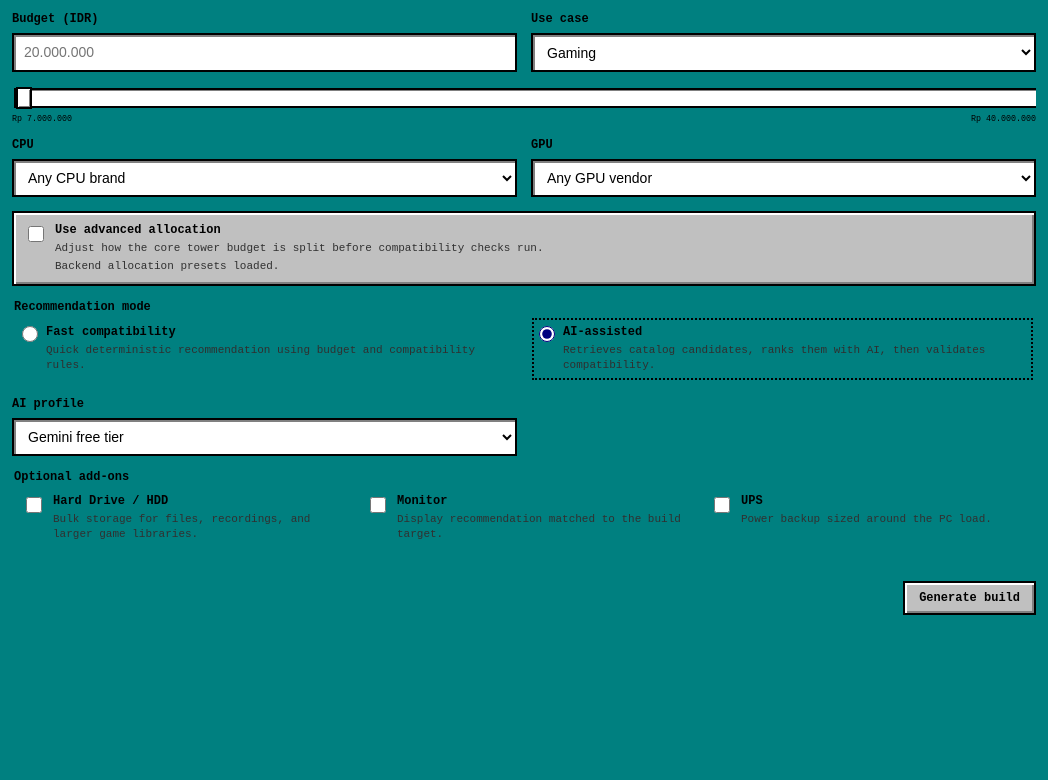
build wizard › hydrates advanced allocation presets from backend metadata when available
Expected: the text "Backend allocation presets loaded." is shown, [55,260,279,272]
Click the checkbox labelled "Use advanced allocation" at [36, 234], box [28,226,44,242]
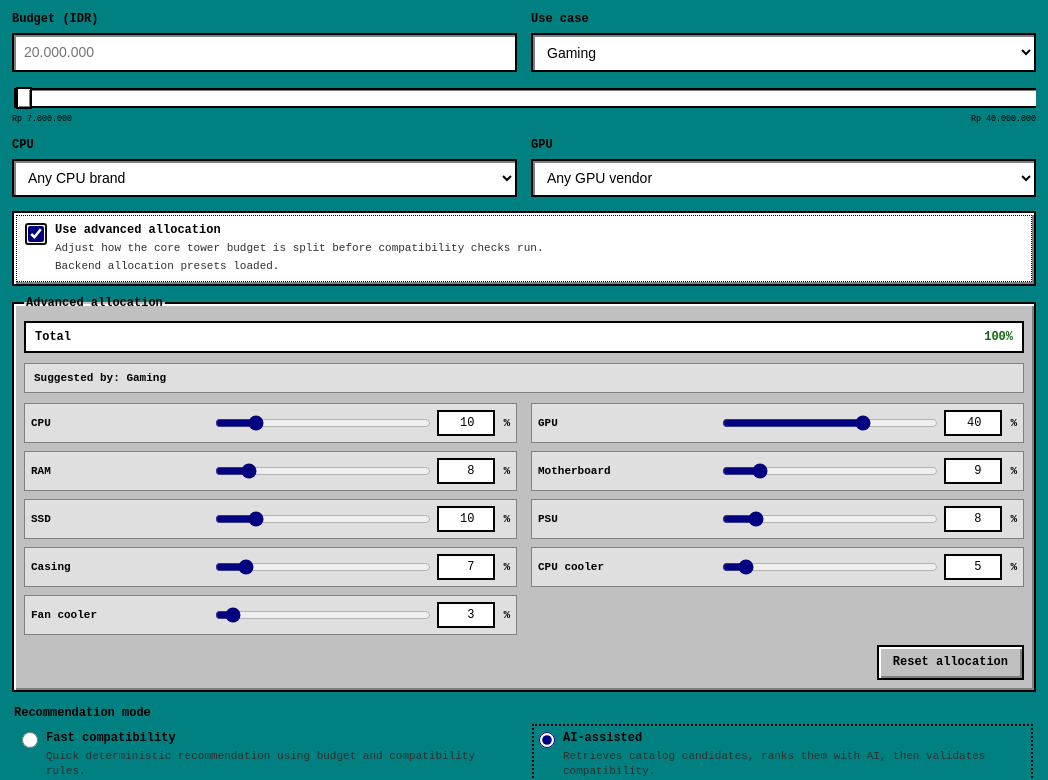
Expected: the number field named "CPU allocation percent" holds "10", [437,410,495,436]
Expected: the number field named "GPU allocation percent" holds "40", [944,410,1002,436]
